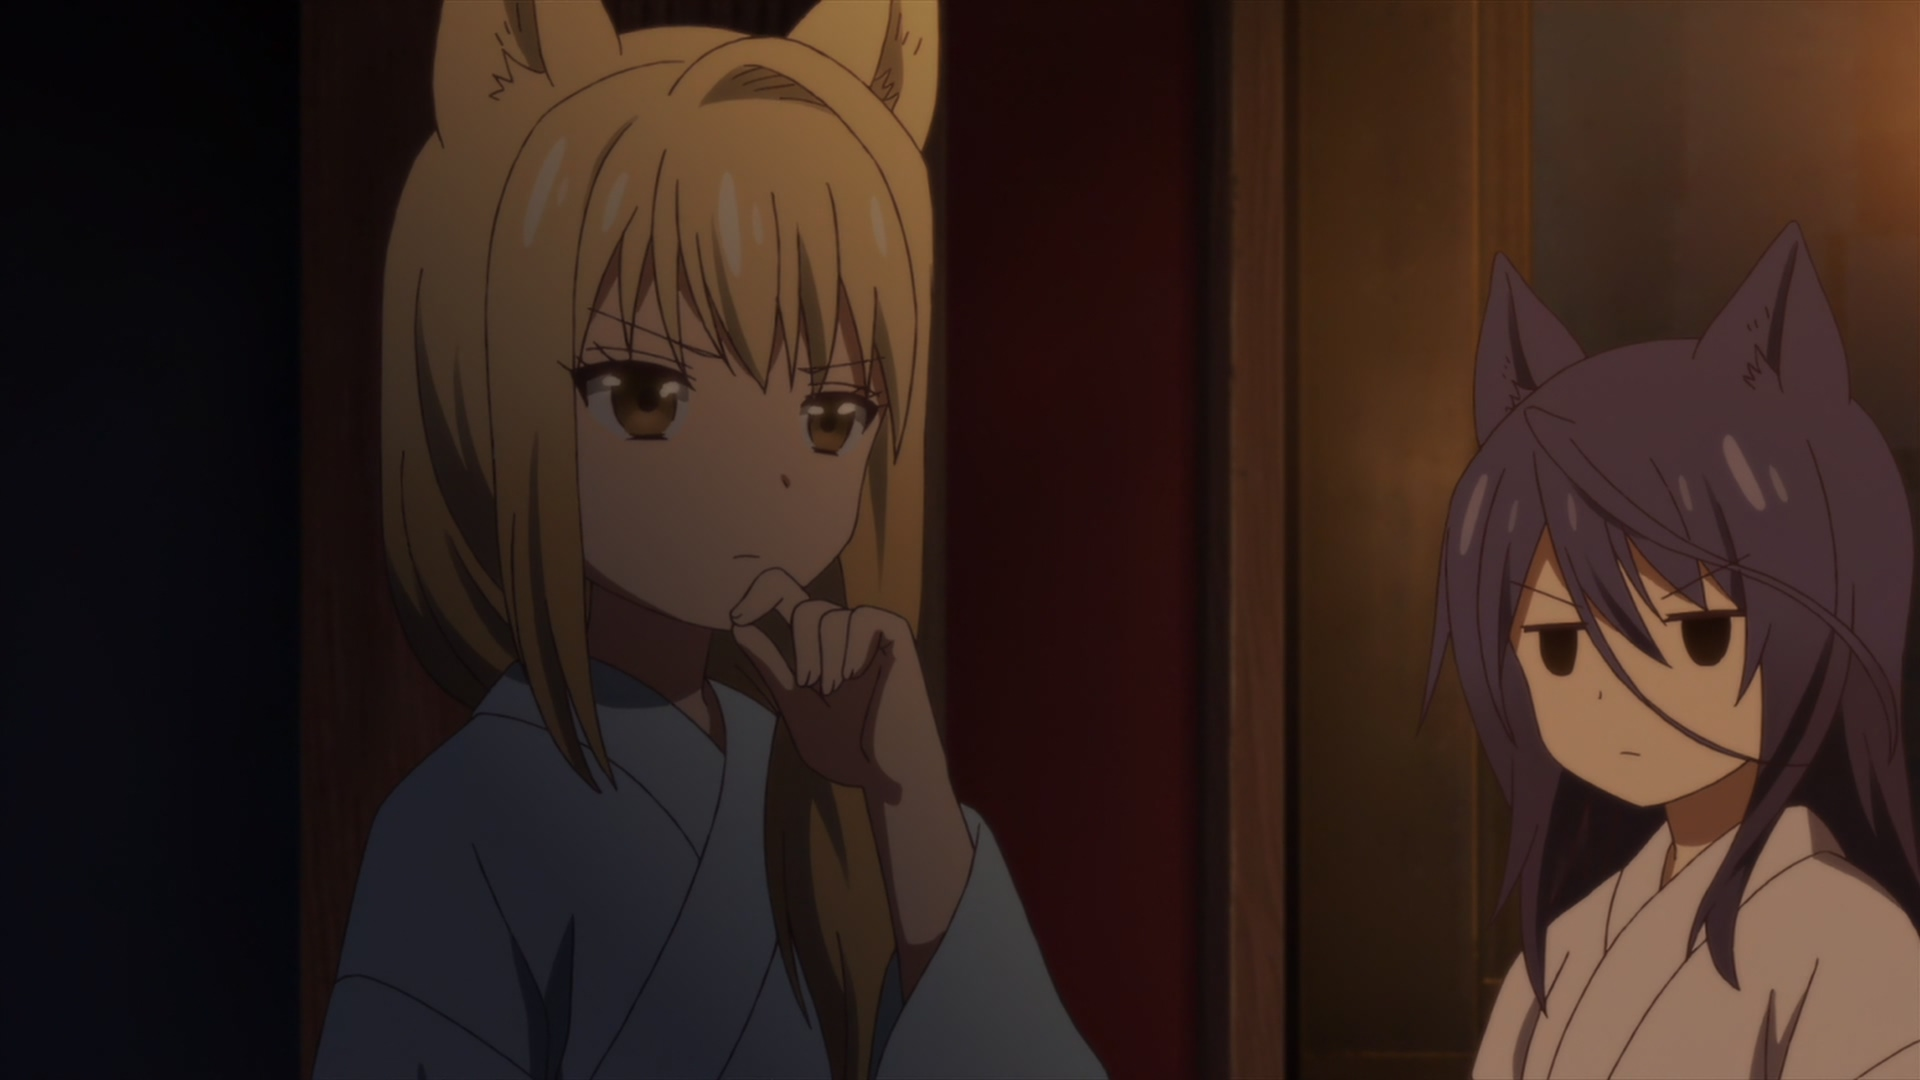桐: (311, 1, 1109, 1080)
皋: (1418, 218, 1920, 1080)
